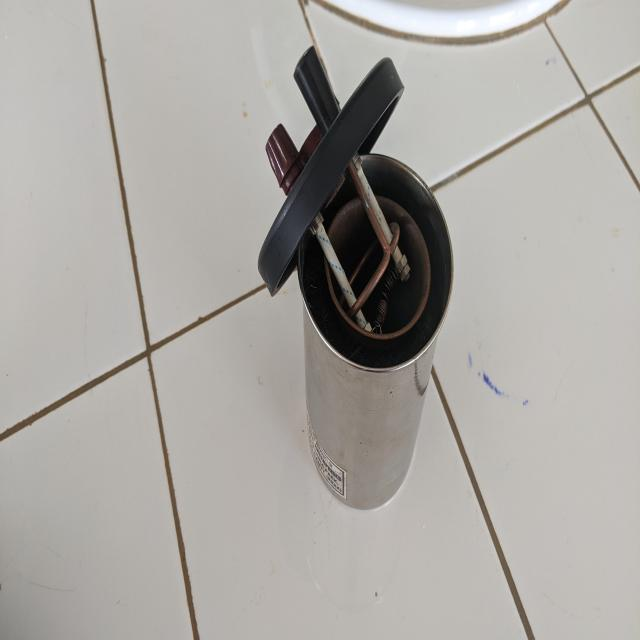Joule-s Calorimeter: (238, 32, 464, 514)
